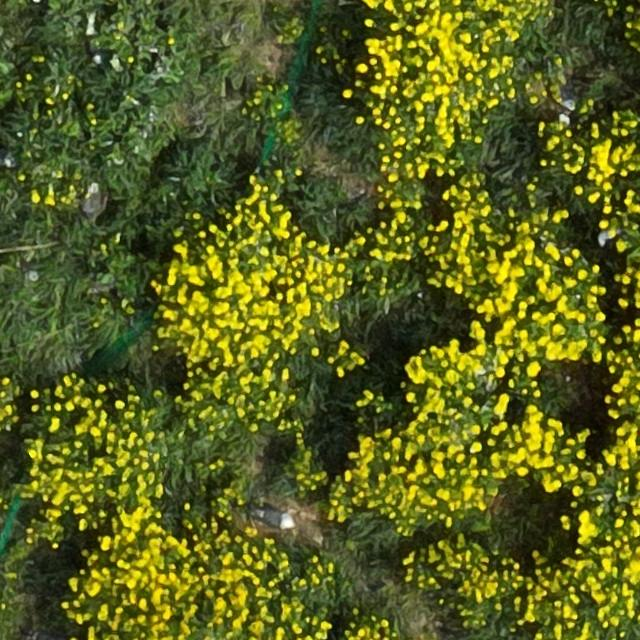umineko: (254, 509, 294, 528)
